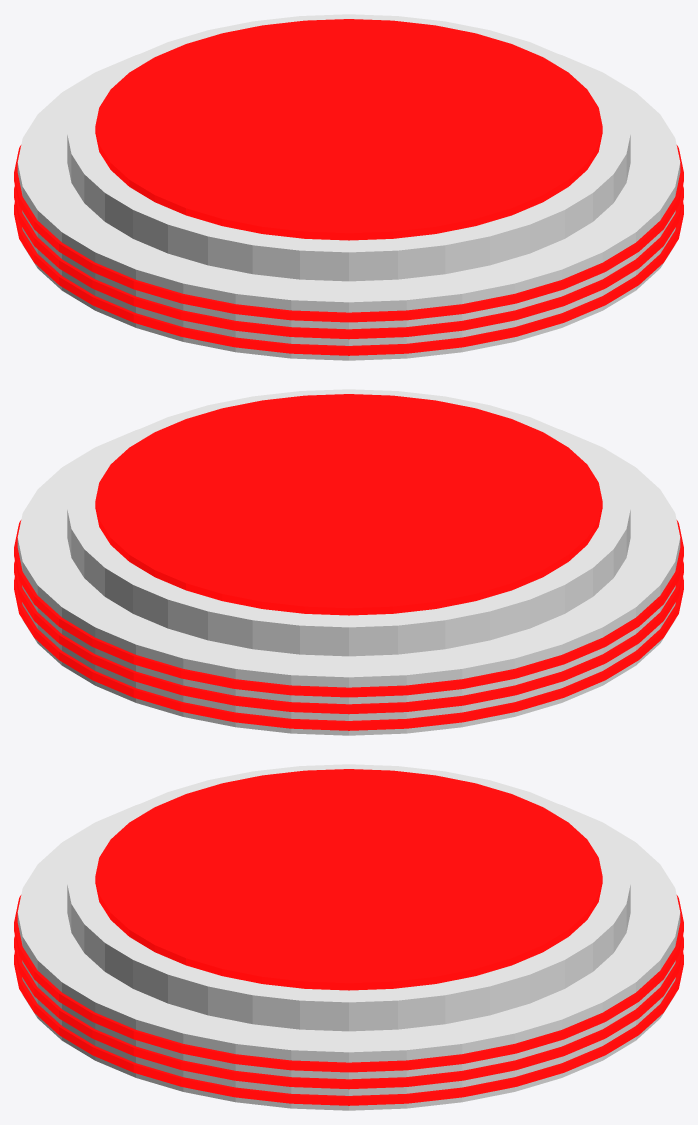
File: Plaque de pression inactif.fbx
3 views of the same model, one above another, from view 1: azimuth 30°, elevation 25°; view 2: azimuth 150°, elevation 25°; view 3: azimuth 270°, elevation 25° (orthographic).
Visible parts, largest first — view 1: Tube_2, Tube, Tube_1, Tube_3, Tube_4, Tube_5; view 2: Tube_2, Tube, Tube_1, Tube_3, Tube_4, Tube_5; view 3: Tube_2, Tube, Tube_1, Tube_3, Tube_4, Tube_5.
Boxes of the visible parts, x1,y1,x2,y2 form: Tube_2: (95,19,602,240); Tube: (17,54,680,360); Tube_1: (67,14,630,281); Tube_3: (14,145,683,322); Tube_4: (14,185,683,339); Tube_5: (14,202,683,355); Tube_2: (95,394,602,615); Tube: (17,429,680,735); Tube_1: (67,389,630,656); Tube_3: (14,520,683,697); Tube_4: (14,560,683,714); Tube_5: (14,577,683,730); Tube_2: (95,769,602,990); Tube: (17,804,680,1110); Tube_1: (67,764,630,1031); Tube_3: (14,895,683,1072); Tube_4: (14,935,683,1089); Tube_5: (14,952,683,1105).
Bounding box in the file's own units: 364 × 56.7 × 364.
